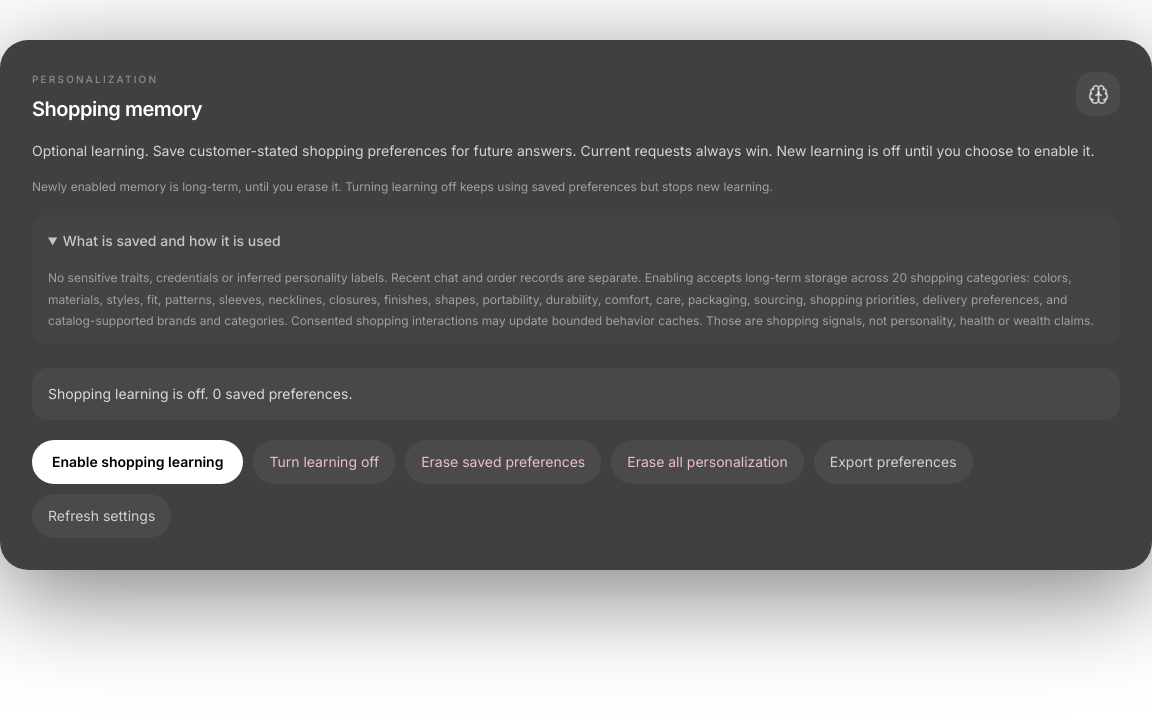
it: is off until explicit enable, and explains the actual limited scope
Expected: the text "20 shopping categories" is shown, left=48, top=270, right=1094, bottom=328
Expected: the text "Newly enabled memory is long-term" is shown, left=32, top=179, right=773, bottom=194
Step 1. Click the button "Enable shopping learning" → (138, 462), box left=32, top=440, right=243, bottom=484
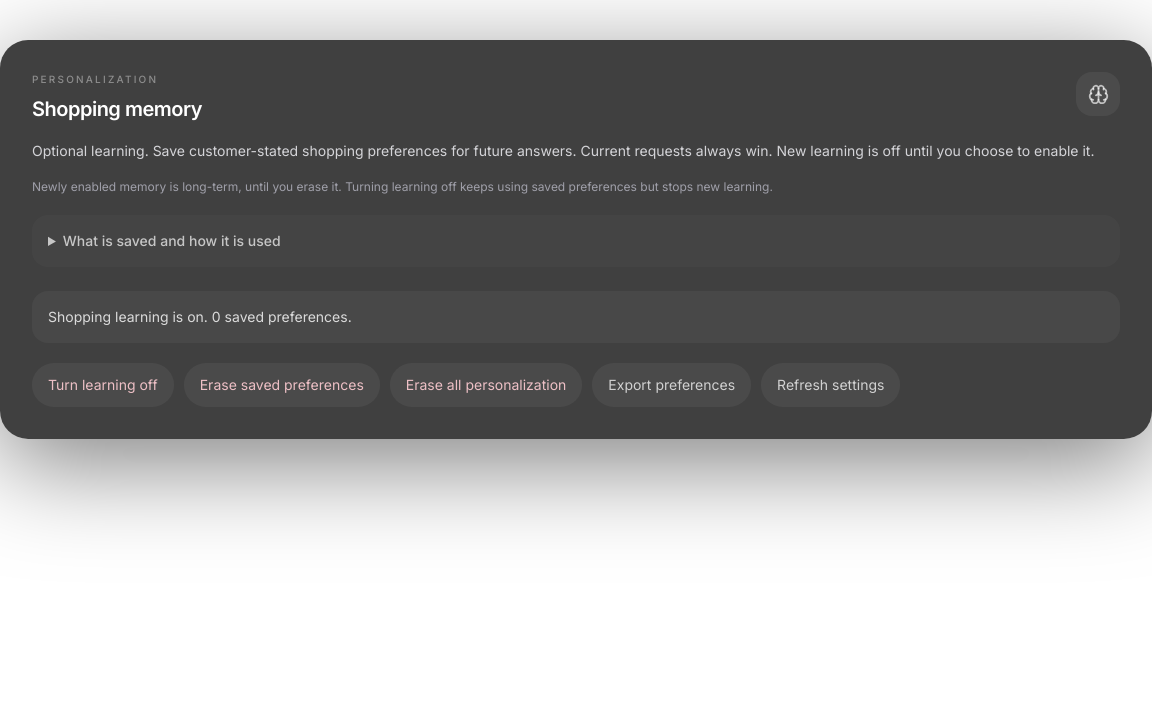
Expected: the message shows "is on", left=48, top=308, right=352, bottom=325
